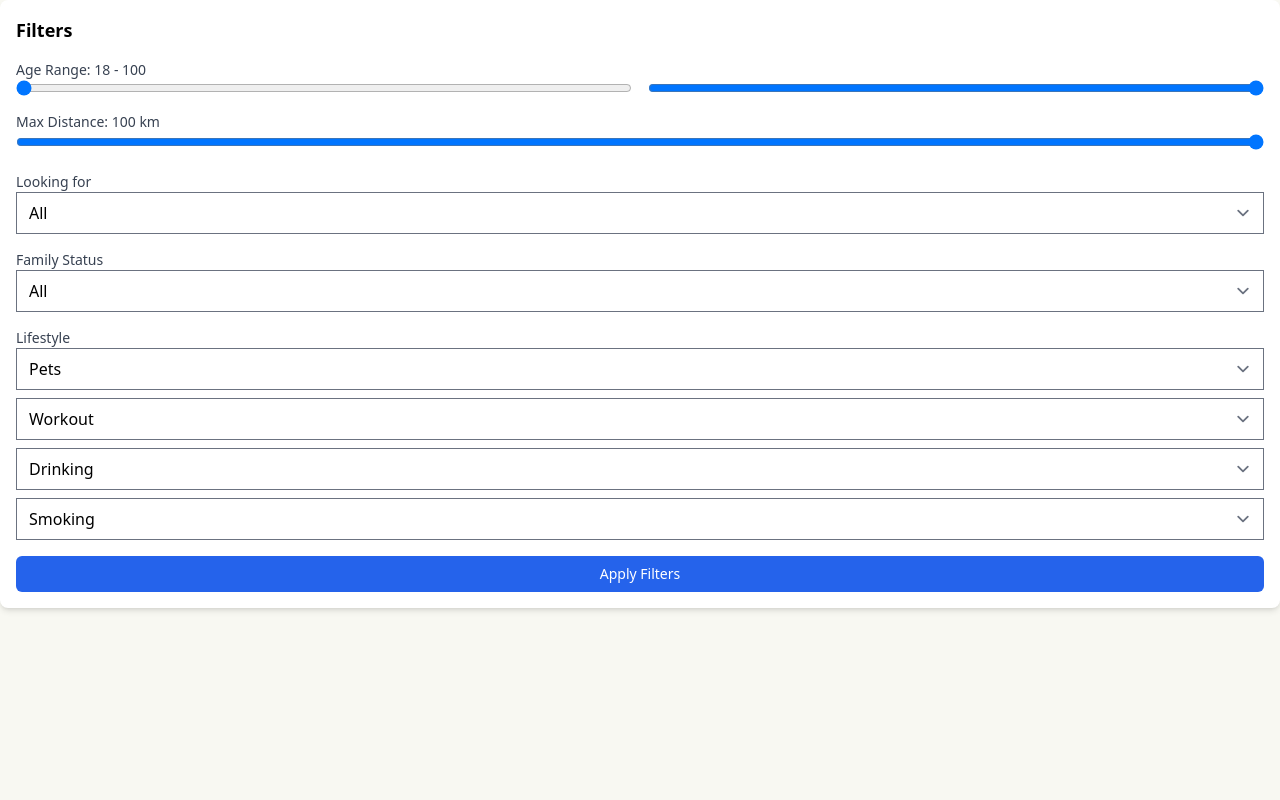
Test case: Filter component › should not allow maxAge to be less than minAge
Set the 1st slider to "50" at (258, 88), box [16, 80, 632, 96]
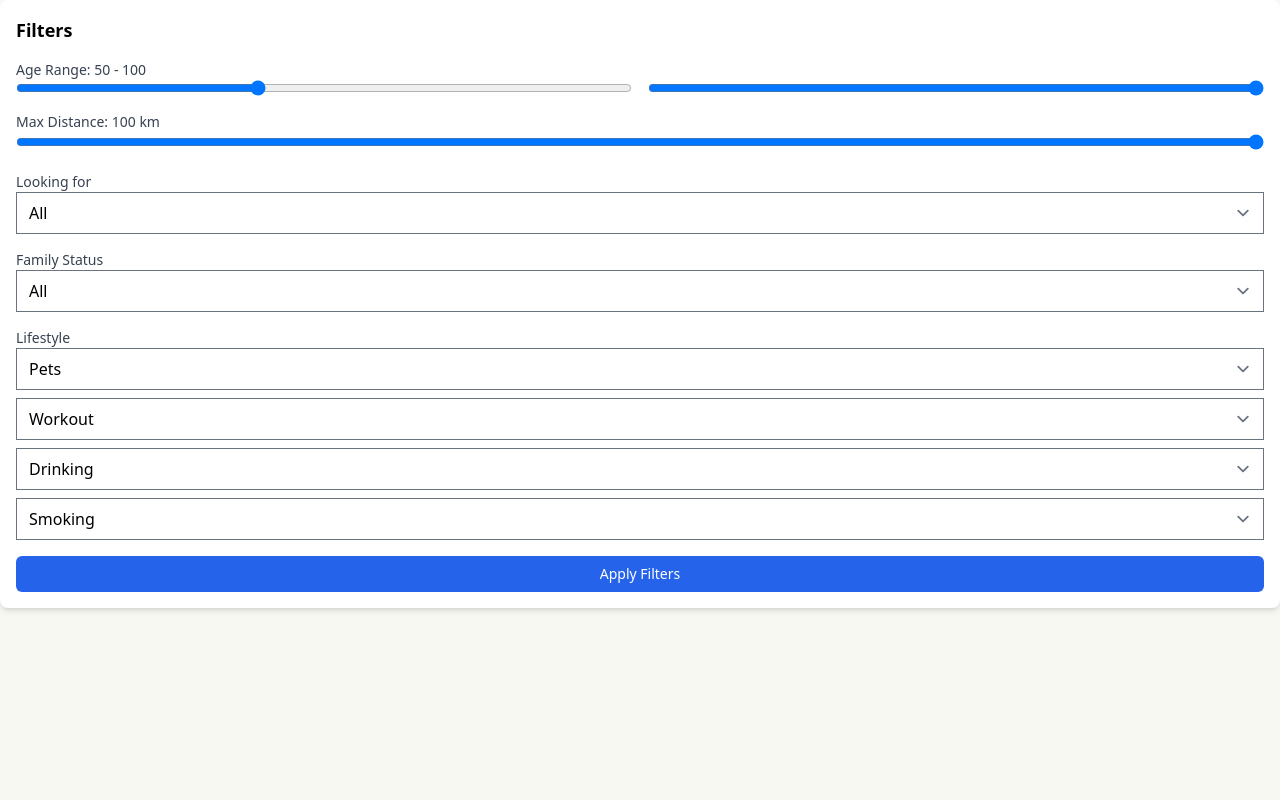
Set the 2nd slider to "40" at (817, 88), box [648, 80, 1264, 96]
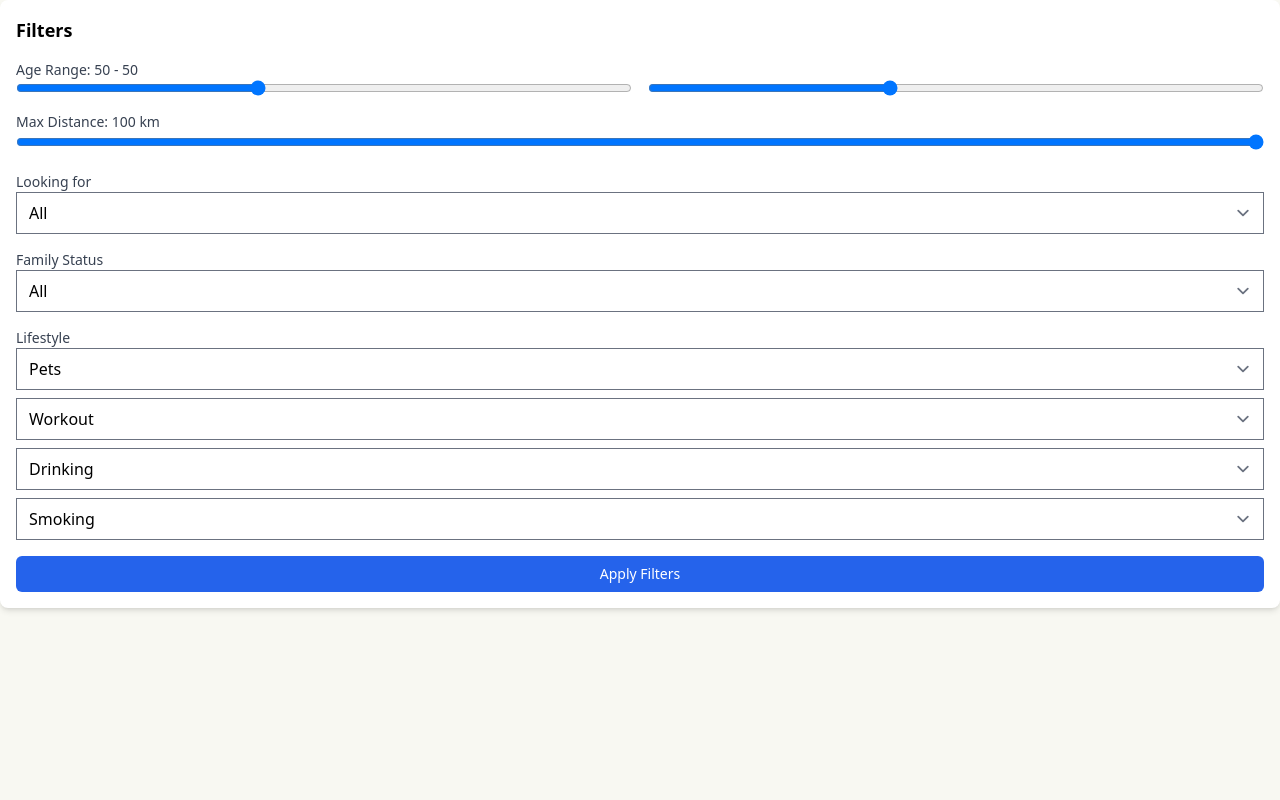
Now the text "Age Range: 50 - 50" is shown, box [16, 60, 138, 79]
